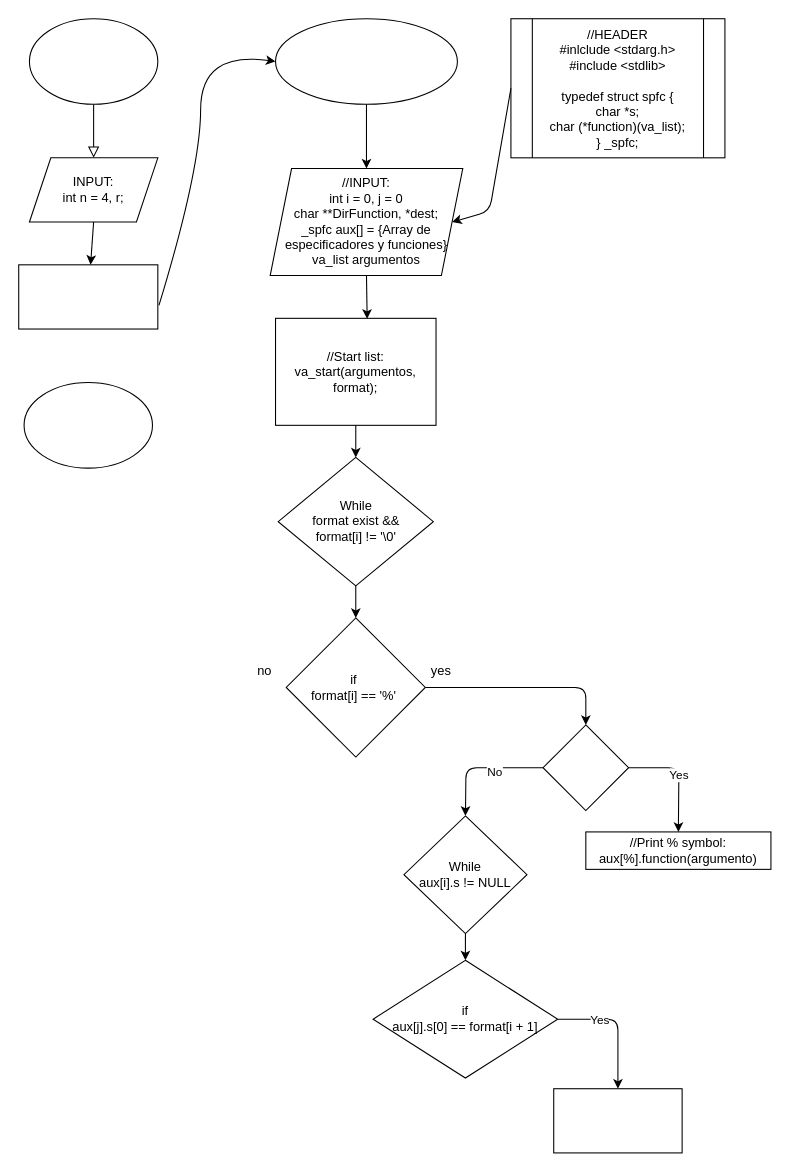
This 790x1172 diagram has some shape labels left out. Each missing label, with the box of its shape:
//Print n r = _printf("Imprimir %i", n): (18, 264, 158, 329)
EXIT return (r); stdout >> Imprimir n: (23, 381, 152, 468)
if format[i + 1] == ' ';: (542, 724, 629, 811)
START 2 int (*_printf)(char *format, ...): (274, 18, 457, 104)
START int main(): (28, 18, 158, 104)
